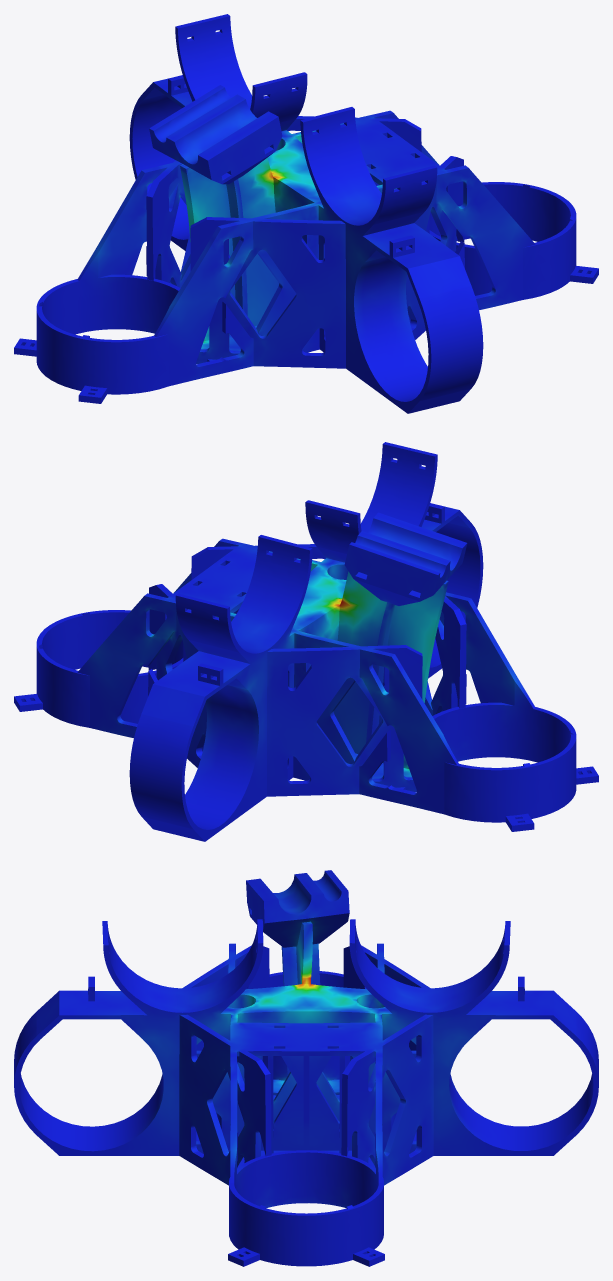
Rendered from result.glb.
3 views of the same model, one above another, from view 1: azimuth 30°, elevation 25°; view 2: azimuth 150°, elevation 25°; view 3: azimuth 270°, elevation 25° (orthographic). The views are drawn at different scales.
Parts seen in each view (by area): view 1: 57e0a685-ddd5-5b07-8110-d83b3296390d von Mises; view 2: 57e0a685-ddd5-5b07-8110-d83b3296390d von Mises; view 3: 57e0a685-ddd5-5b07-8110-d83b3296390d von Mises.
Boxes of the visible parts, x1=… form: 57e0a685-ddd5-5b07-8110-d83b3296390d von Mises: x1=14, y1=14, x2=598, y2=413; 57e0a685-ddd5-5b07-8110-d83b3296390d von Mises: x1=14, y1=442, x2=598, y2=841; 57e0a685-ddd5-5b07-8110-d83b3296390d von Mises: x1=14, y1=870, x2=598, y2=1266.
Bounding box in the file's own units: 0.2603 × 0.112 × 0.2614.
Materials: 1 (1 with a texture image).
